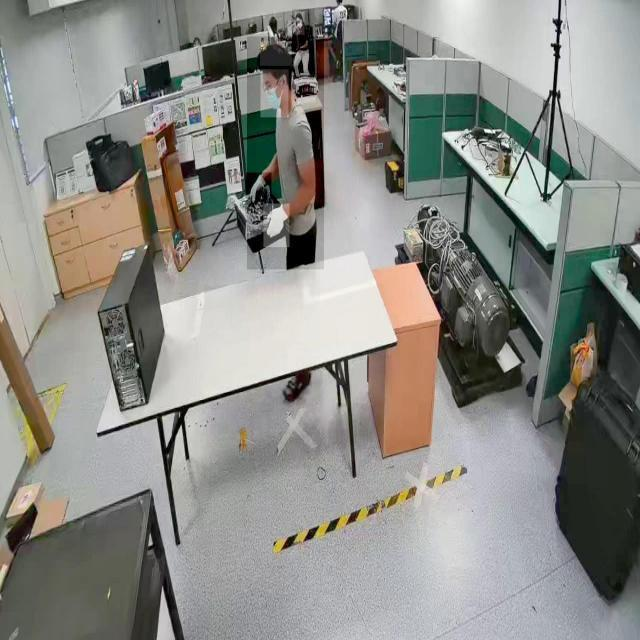gloves: (245, 172, 272, 215), (264, 204, 290, 248)
